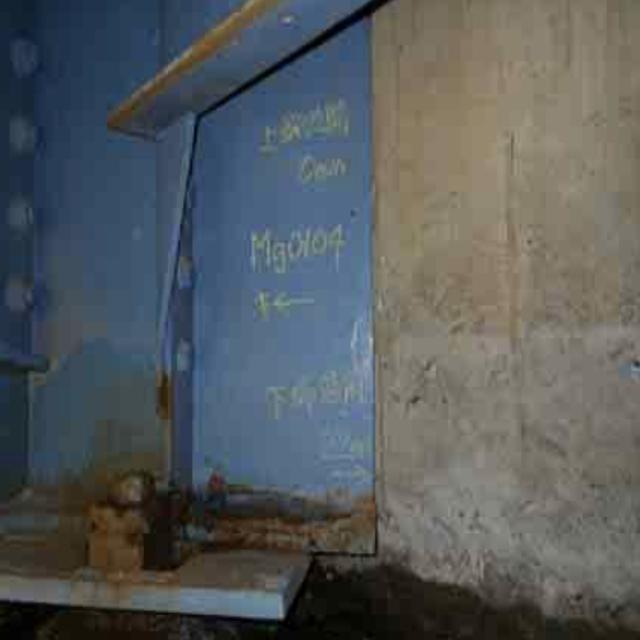corrosion: (57, 388, 377, 573)
